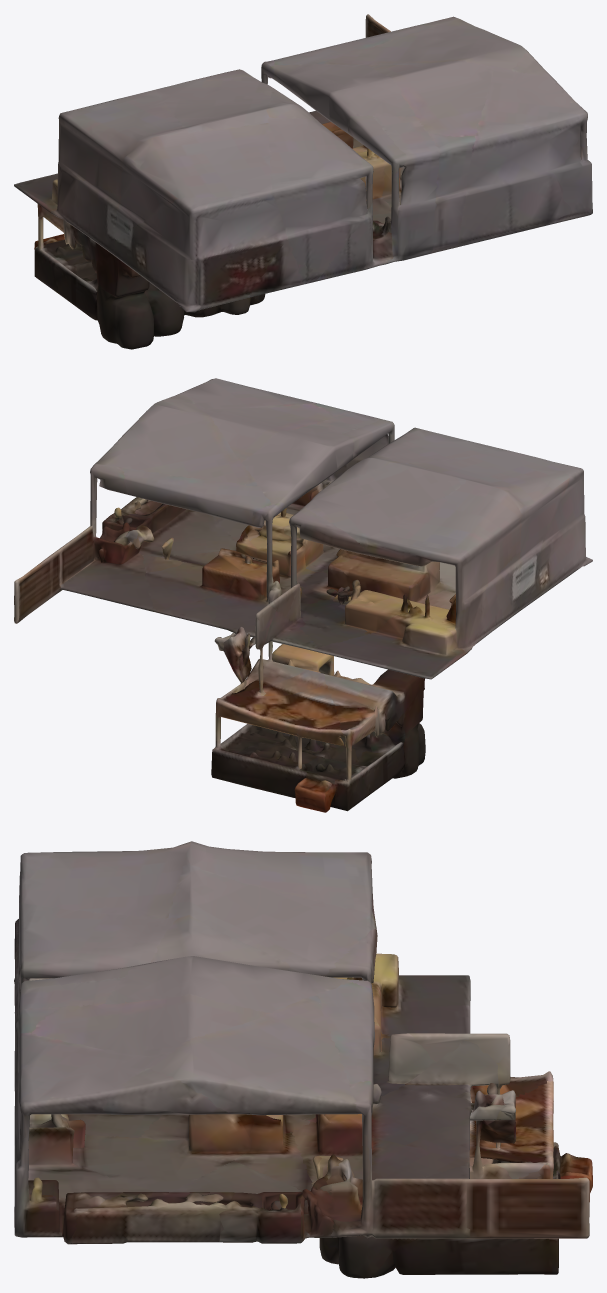
The model's file is market_hall.glb.
3 renders of one model, top to bottom at view 1: azimuth 30°, elevation 25°; view 2: azimuth 150°, elevation 25°; view 3: azimuth 270°, elevation 25°, orthographic. The views are drawn at different scales.
Visible parts, largest first — view 1: tripo_node_020e17c3-f33e-4a60-a21e-ac50699ca801; view 2: tripo_node_020e17c3-f33e-4a60-a21e-ac50699ca801; view 3: tripo_node_020e17c3-f33e-4a60-a21e-ac50699ca801.
Boxes of the visible parts, x1,y1,x2,y2 form: tripo_node_020e17c3-f33e-4a60-a21e-ac50699ca801: (14, 14, 592, 349); tripo_node_020e17c3-f33e-4a60-a21e-ac50699ca801: (14, 378, 592, 812); tripo_node_020e17c3-f33e-4a60-a21e-ac50699ca801: (14, 841, 592, 1278).
Bounding box in the file's own units: 0.8503 × 0.5088 × 0.7803.
1 material, 1 textured.
